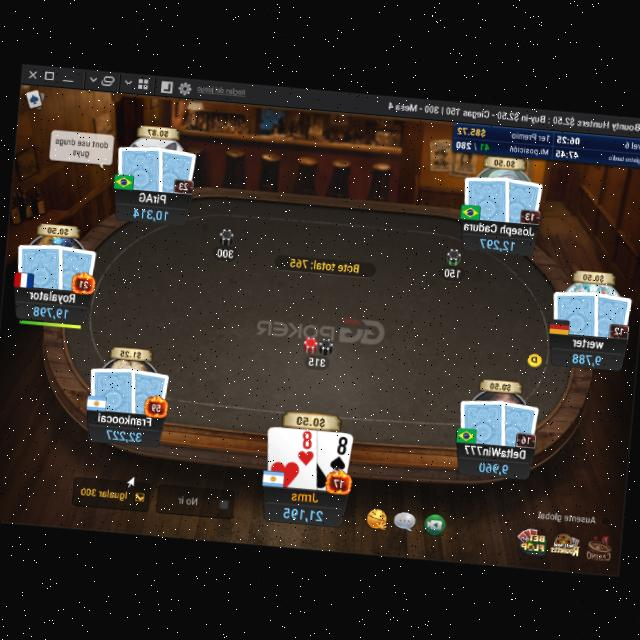8h: (296, 429, 316, 466)
8s: (327, 432, 350, 472)
9h: (296, 429, 316, 466)
bet_text: (306, 353, 327, 367), (216, 246, 235, 259), (442, 266, 460, 278)
card_back: (85, 360, 140, 414), (459, 170, 514, 224), (12, 237, 68, 290), (548, 283, 602, 337), (456, 393, 510, 446), (113, 138, 167, 191), (151, 142, 198, 194), (52, 242, 98, 294), (586, 288, 633, 338), (494, 398, 540, 448), (124, 365, 170, 415), (498, 174, 544, 224)
dealer: (524, 349, 544, 369)
pot_text: (286, 254, 362, 274)
stack_text: (280, 501, 324, 523), (478, 234, 515, 252), (32, 300, 68, 318), (132, 203, 170, 220), (105, 426, 144, 442), (570, 348, 604, 365), (476, 457, 509, 474)
